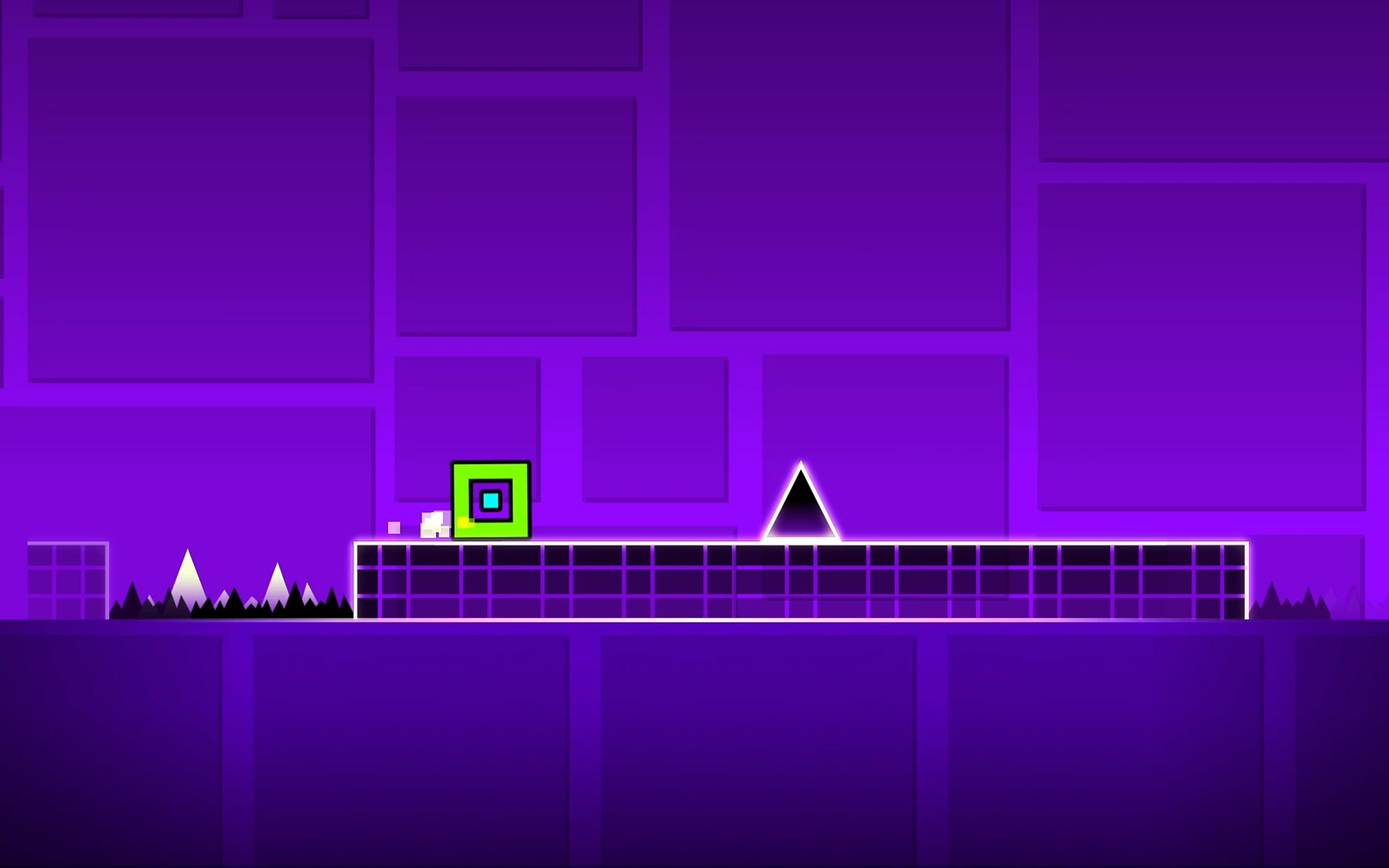Block2: (356, 540, 1250, 617), (13, 540, 108, 616)
Player: (451, 460, 531, 538)
Spike: (763, 462, 838, 538)
Spike3: (111, 582, 354, 622), (1248, 581, 1369, 620)
